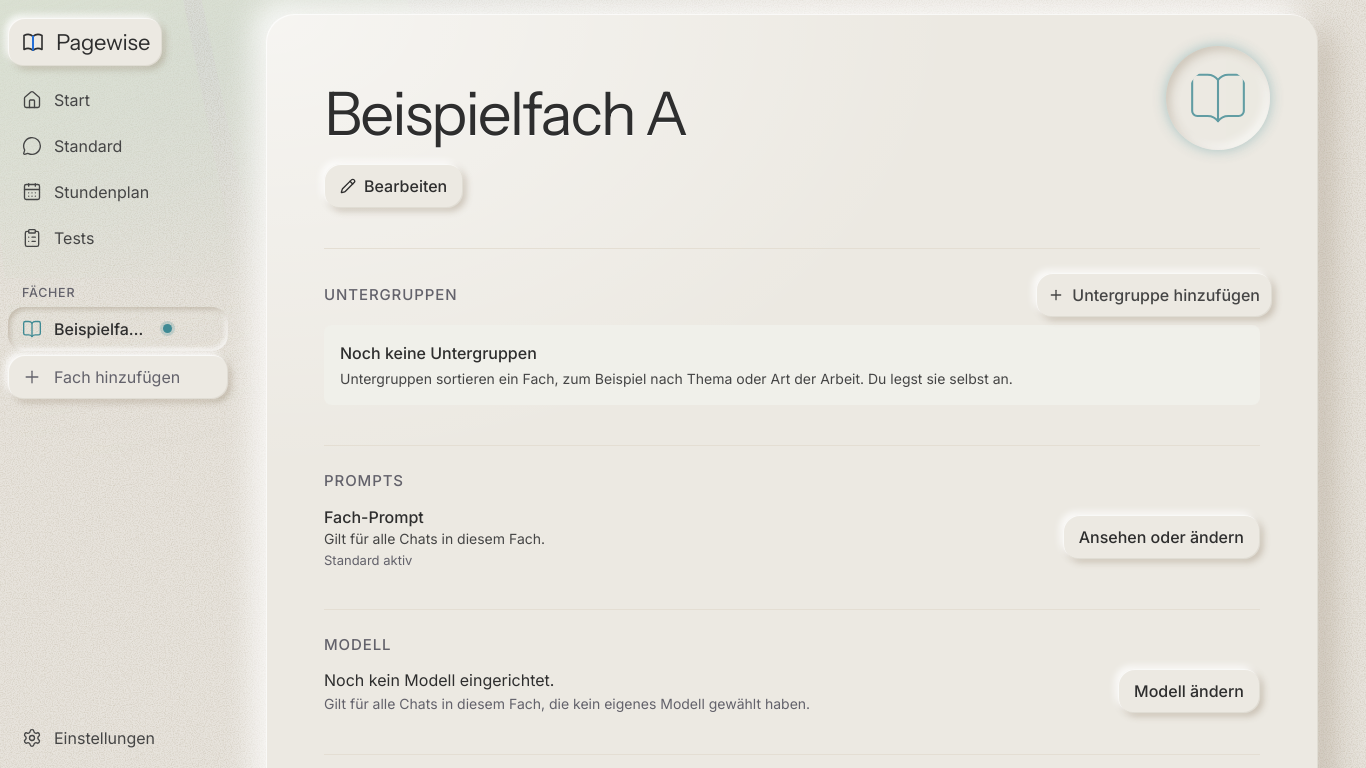
Standard-Prompt je Fach › nennt in der Vorschau den Standardtext mit eingesetztem Fachnamen und seiner Herkunft
Step 1. Click the button with aria-label "Fach-Prompt: Ansehen oder ändern" → (1161, 537), box x1=1063 y1=515 x2=1260 y2=559
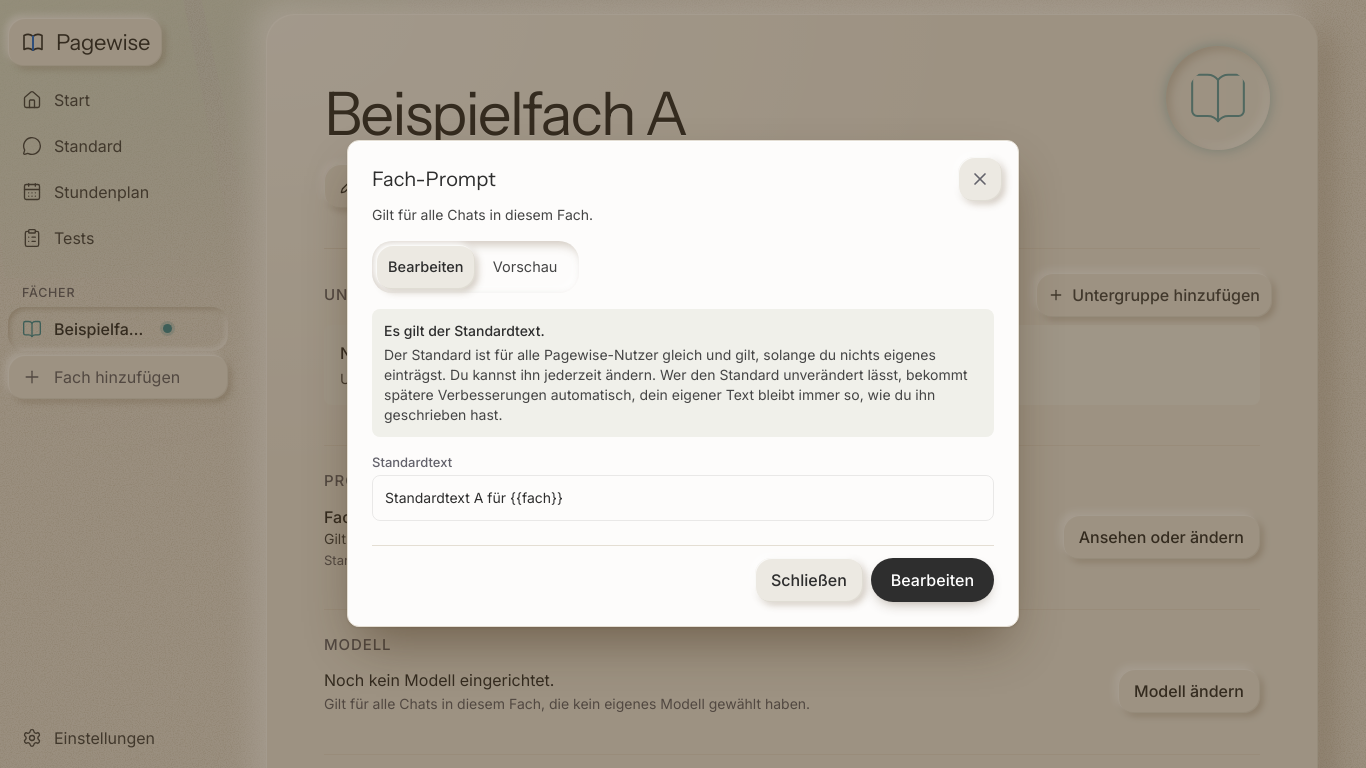
Step 2. Click the radio button labelled "Vorschau" → (525, 267), box x1=493 y1=258 x2=558 y2=276
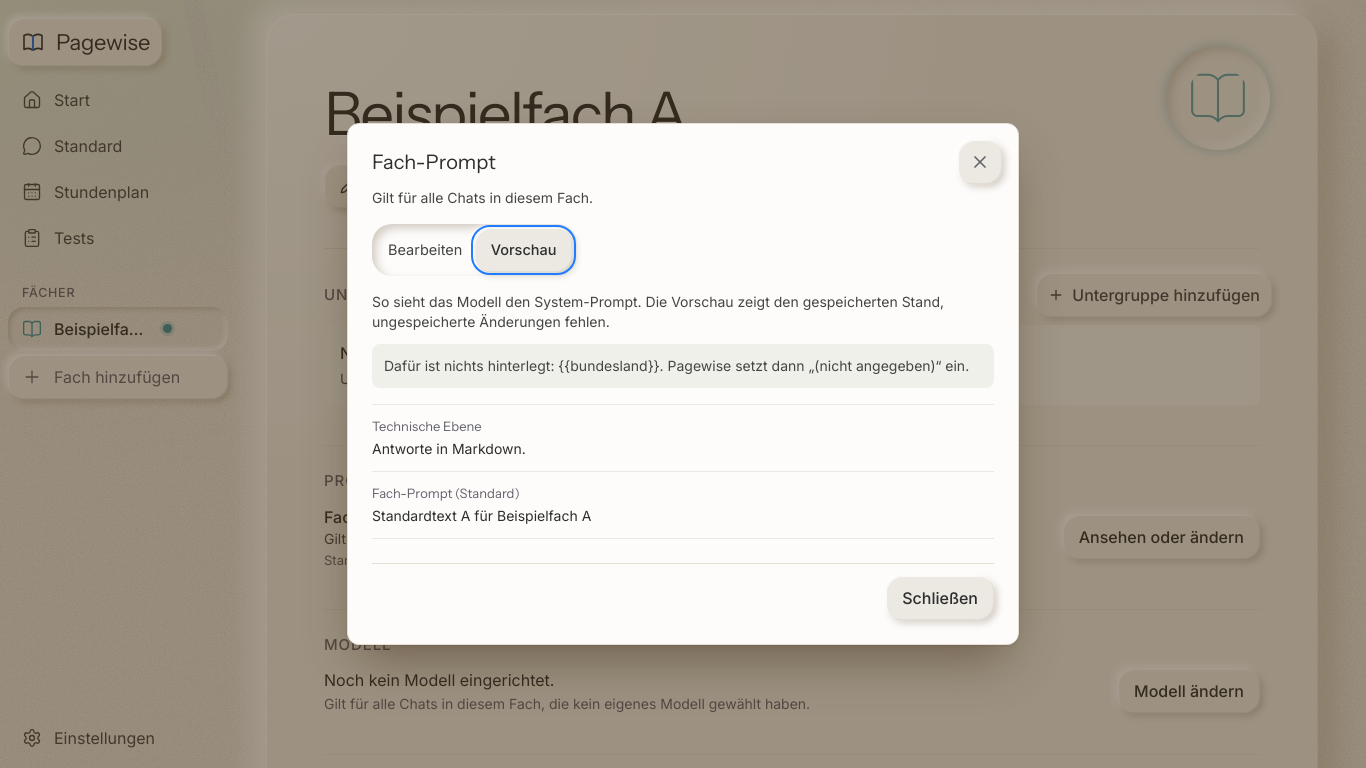
Now the heading "Fach-Prompt (Standard)" is shown, box x1=372 y1=485 x2=520 y2=501
Now the text "Standardtext A für Beispielfach A" is shown, box x1=372 y1=507 x2=591 y2=524
